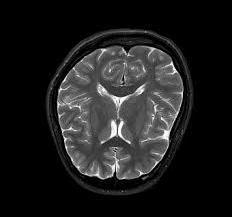Normal_Brain: (16, 12, 214, 217)
